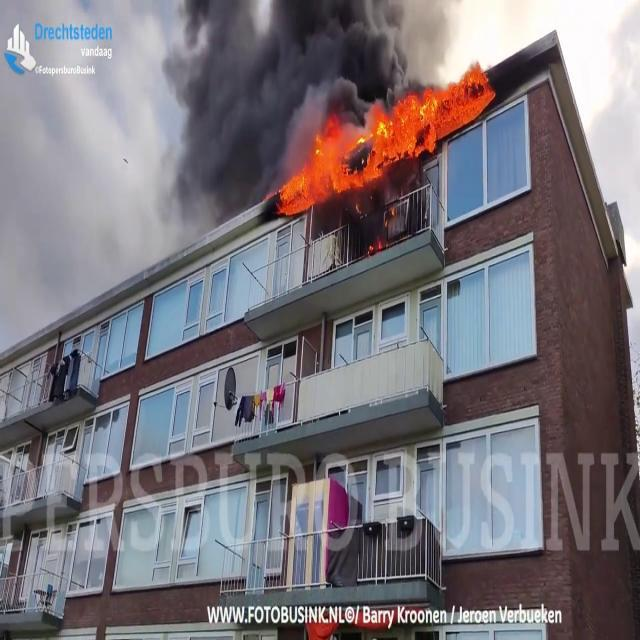Fire: (281, 91, 447, 209)
Smoke: (0, 2, 181, 330), (156, 0, 444, 179)
